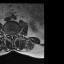CCS_normal: (11, 33, 12, 40)
LFS_severe_stenosis: (14, 32, 16, 36)
LLS_stenosis: (12, 32, 14, 37)
RFS_severe_stenosis: (8, 32, 10, 37)
RLS_stenosis: (10, 33, 11, 37)
